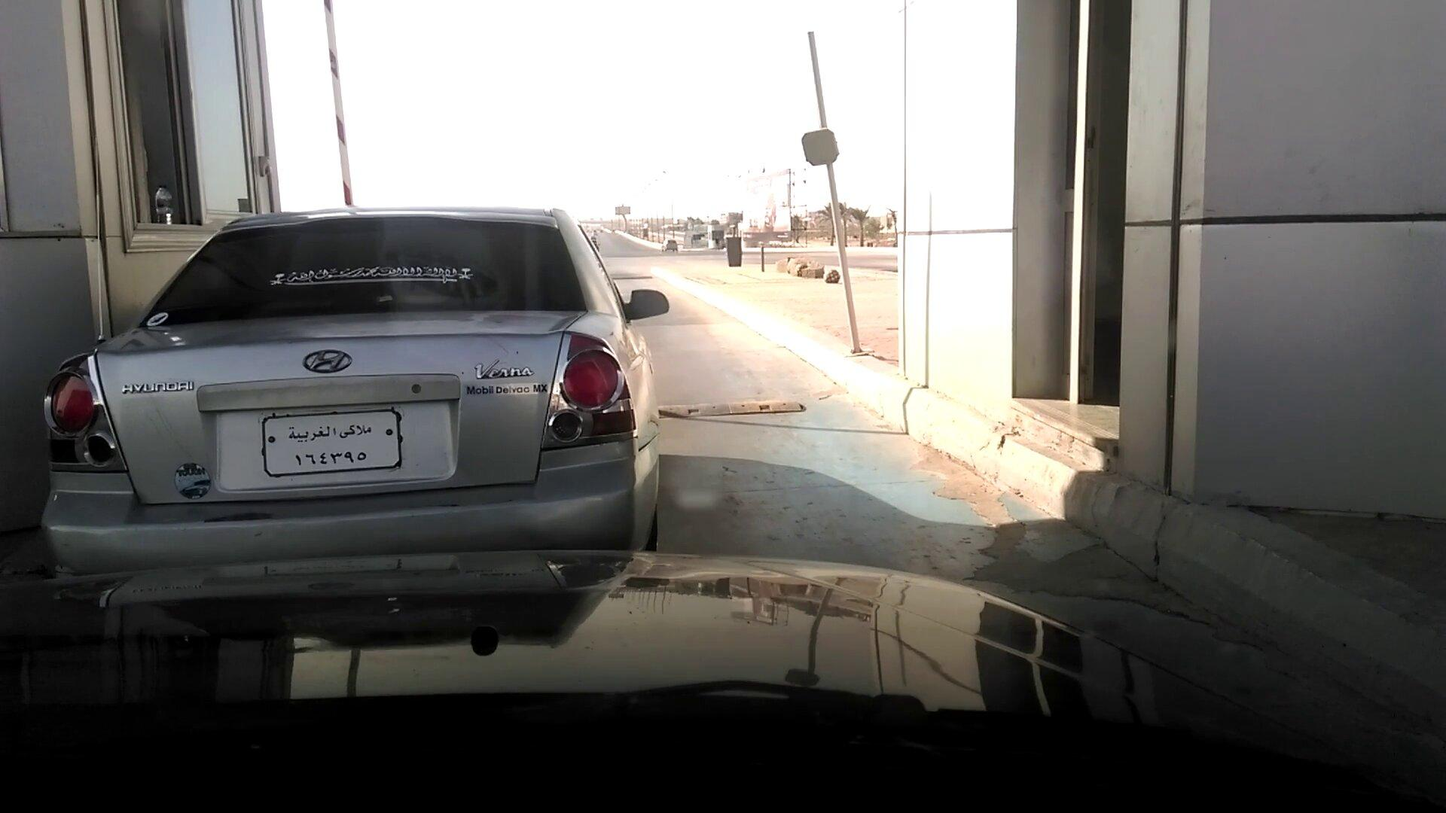Bump: (654, 395, 809, 422)
